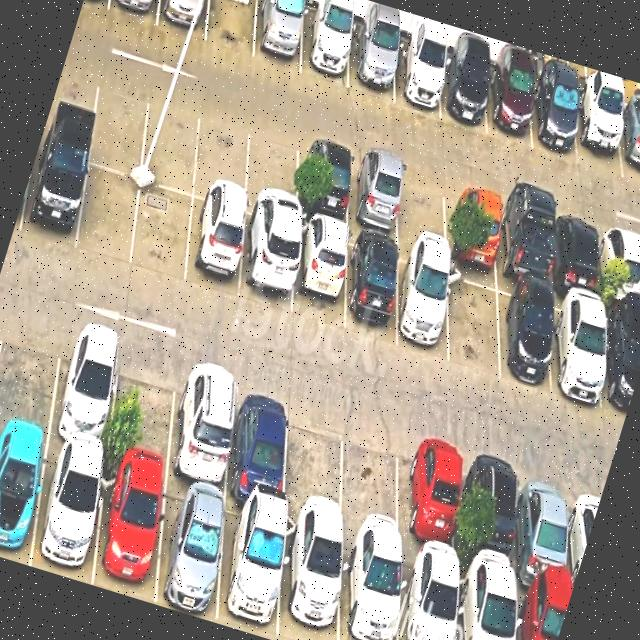empty: (108, 338, 179, 477), (343, 409, 406, 548), (0, 303, 64, 437), (284, 393, 345, 530), (140, 88, 203, 196), (76, 164, 140, 266), (88, 72, 150, 177), (131, 181, 192, 285), (244, 119, 299, 228), (193, 105, 249, 211), (448, 264, 499, 377), (399, 163, 446, 251), (205, 0, 257, 58)
occupied: (30, 442, 104, 584), (48, 319, 121, 457), (93, 461, 164, 602), (154, 479, 224, 622), (216, 498, 284, 640), (168, 357, 236, 495), (226, 374, 291, 509), (401, 425, 459, 565), (278, 515, 341, 640), (19, 143, 88, 250), (467, 444, 520, 580), (517, 459, 569, 595), (0, 428, 47, 565), (340, 535, 400, 640), (292, 217, 347, 330), (552, 289, 604, 406), (185, 198, 244, 299), (344, 232, 397, 343), (397, 247, 448, 362), (497, 278, 550, 388), (238, 216, 293, 316), (399, 550, 456, 640), (297, 135, 351, 226), (499, 193, 549, 287), (350, 149, 399, 239), (449, 178, 497, 269), (603, 303, 640, 419), (300, 6, 351, 88), (574, 91, 622, 178), (458, 566, 514, 640), (554, 207, 599, 296), (532, 76, 577, 163), (486, 63, 532, 148), (440, 52, 486, 133), (253, 0, 303, 73), (393, 38, 439, 117), (348, 25, 394, 100), (601, 220, 640, 308), (515, 581, 571, 640), (156, 0, 209, 40), (616, 103, 640, 184), (108, 0, 159, 25)
